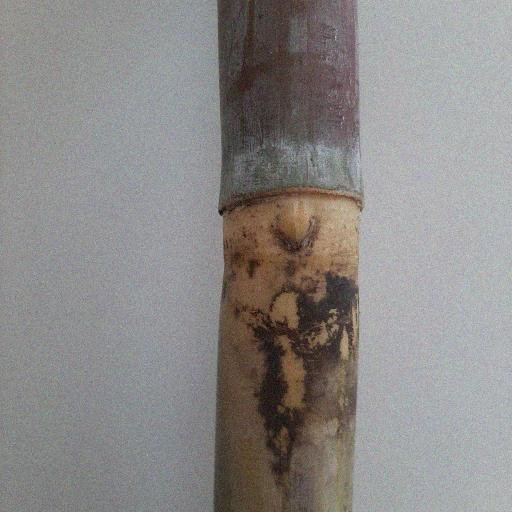Bud: (276, 200, 315, 246)
